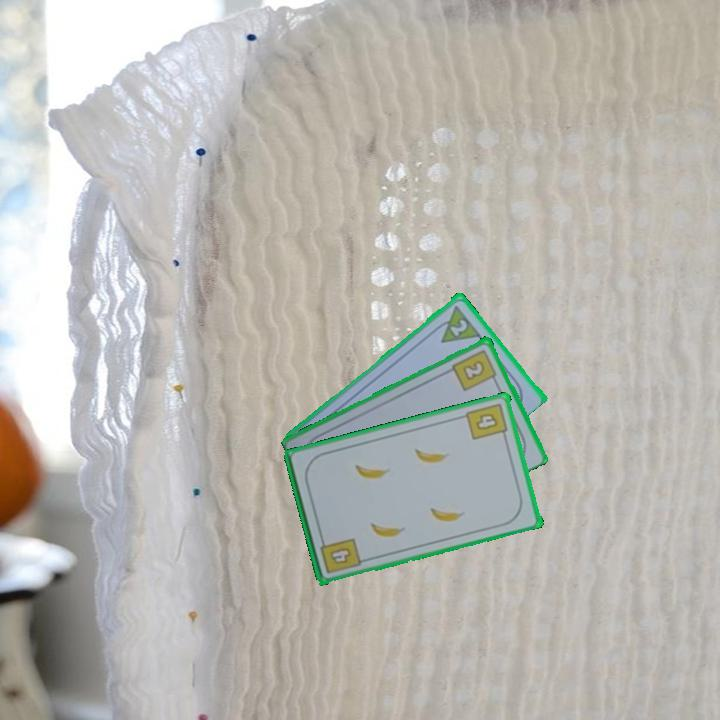2b: (449, 346, 500, 393)
2p: (429, 301, 482, 346)
4b: (463, 399, 511, 442), (316, 533, 364, 576)
